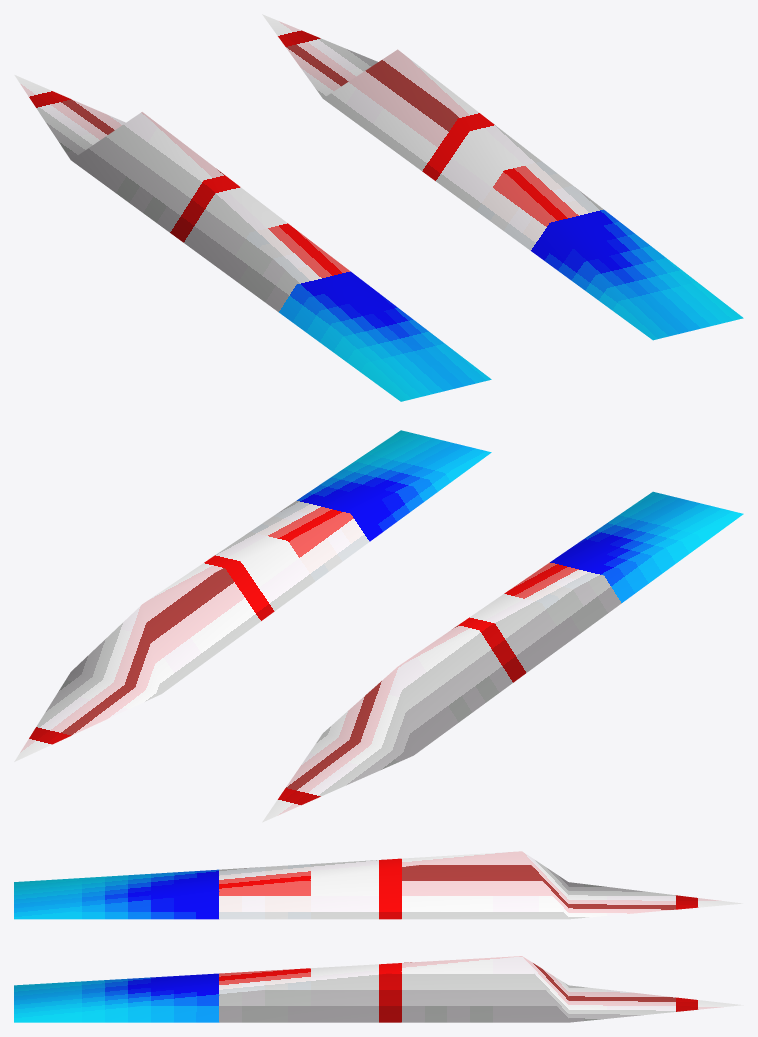
3 views of the same model, one above another, from view 1: azimuth 30°, elevation 25°; view 2: azimuth 150°, elevation 25°; view 3: azimuth 270°, elevation 25° (orthographic). The views are drawn at different scales.
Parts seen in each view (by area): view 1: 947b2eaa; view 2: 947b2eaa; view 3: 947b2eaa.
Boxes of the visible parts, <box> form: 947b2eaa: <box>14,14,743,401</box>; 947b2eaa: <box>14,430,743,822</box>; 947b2eaa: <box>14,851,743,1022</box>.
Bounding box in the file's own units: 4.6 × 0.7741 × 10.09.
Materials: 1 (1 with a texture image).
